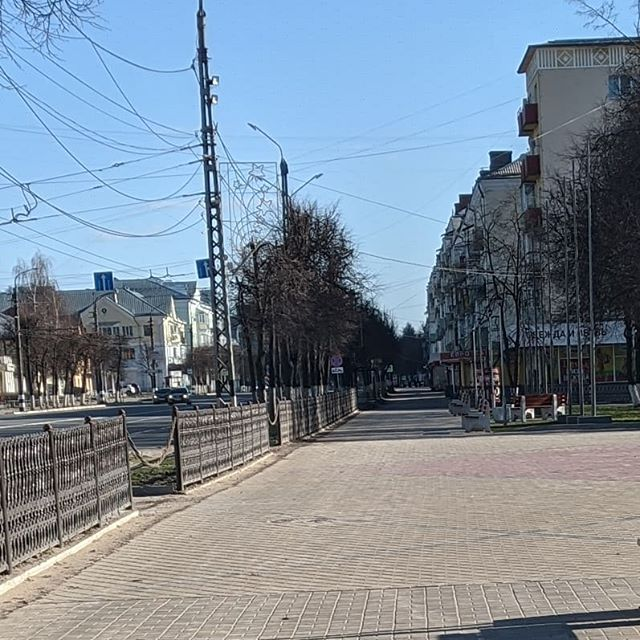building: (527, 45, 640, 352), (456, 157, 523, 392), (81, 276, 197, 407)
sidewalk: (94, 407, 640, 634)
sky: (22, 1, 524, 272)
street: (1, 386, 264, 494)
tree: (540, 71, 640, 411), (243, 214, 354, 430), (1, 264, 77, 411)
